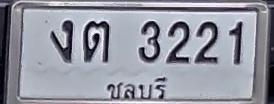1: (229, 20, 243, 64)
2: (166, 21, 190, 64), (194, 21, 218, 64)
3: (138, 20, 160, 63)
A07: (50, 19, 73, 62)
A21: (83, 21, 110, 63)
CBI: (106, 74, 169, 104)
